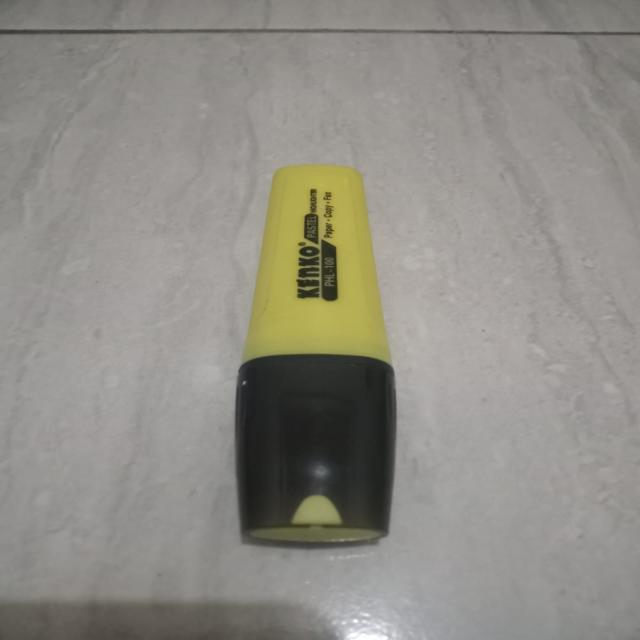highlighter: (198, 138, 462, 560)
